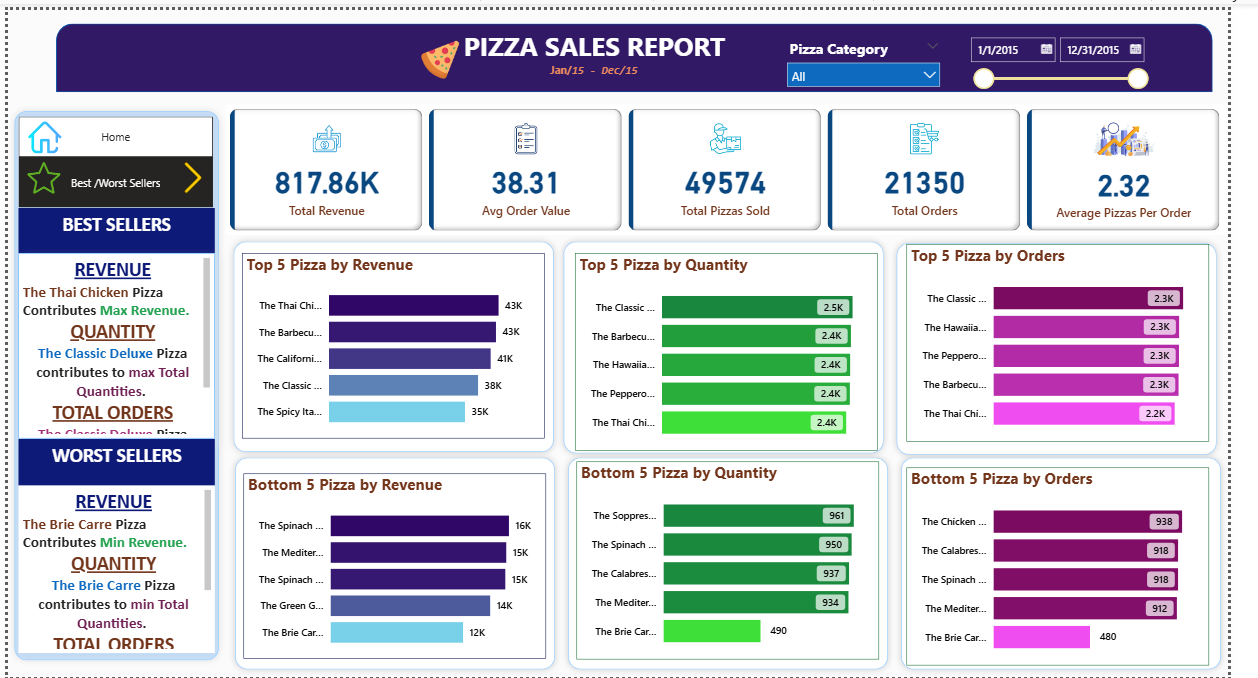

This screenshot's page, from the dashboard's own definition file:
{"tool":"powerbi","page":{"name":"Best /Worst Sellers","canvas":[1500,820],"ordinal":1},"visuals":[{"type":"cardVisual","fields":{"Data":["pizza_sales.Total Revenue","pizza_sales.Avg Order Value","pizza_sales.Total Pizzas Sold","pizza_sales.Total Orders","pizza_sales.Average Pizzas Per Order"]},"box":[267.4,116.2,1231.9,160.4],"z":0},{"type":"shape","box":[59,16.6,1421.8,84.8],"z":1000},{"type":"textbox","box":[531.1,16.6,379.9,75.6],"z":2000},{"type":"textbox","box":[619.6,59,201,33.2],"z":3000},{"type":"image","box":[501.6,29.5,59,62.7],"z":4000},{"type":"shape","box":[269.2,276.6,410,275],"z":5000},{"type":"shape","box":[0,116.2,267.4,691.5],"z":6000},{"type":"textbox","box":[13.3,243.6,241.4,55.4],"z":7000},{"type":"textbox","box":[13.3,299,241.4,228.1],"z":8000},{"type":"textbox","box":[13.3,527.1,241.4,57.6],"z":9000},{"type":"textbox","box":[13.3,584.7,241.4,206],"z":10000},{"type":"slicer","fields":{"Values":["pizza_sales.pizza_category"]},"box":[947.8,28.8,208.2,70.9],"z":11000},{"type":"slicer","fields":{"Values":["pizza_sales.order_date"]},"box":[1171.5,24.4,239.2,75.3],"z":12000},{"type":"shape","box":[675.4,276.8,410,276.8],"z":13000},{"type":"shape","box":[1085.1,279,410,276.8],"z":14000},{"type":"shape","box":[270.2,542.6,409.7,276.8],"z":15000},{"type":"shape","box":[679.9,542.6,409.7,276.8],"z":16000},{"type":"shape","box":[1089.6,542.6,409.7,276.8],"z":17000},{"type":"barChart","title":"Top 5 Pizza by Revenue","fields":{"Category":["pizza_sales.pizza_name"],"Y":["pizza_sales.Total Revenue"]},"box":[287.9,299,372.1,228.1],"z":18000},{"type":"barChart","title":"Top 5 Pizza by Quantity","fields":{"Category":["pizza_sales.pizza_name"],"Y":["pizza_sales.Total Pizzas Sold"]},"box":[697.6,299,372.1,243.6],"z":19000},{"type":"barChart","title":"Bottom 5 Pizza by Revenue","fields":{"Category":["pizza_sales.pizza_name"],"Y":["pizza_sales.Total Revenue"]},"box":[290.1,569.1,372.1,228.1],"z":20000},{"type":"barChart","title":"Bottom 5 Pizza by Quantity","fields":{"Category":["pizza_sales.pizza_name"],"Y":["pizza_sales.Total Pizzas Sold"]},"box":[699.8,555.9,372.1,243.6],"z":21000},{"type":"barChart","title":"Top 5 Pizza by Orders","fields":{"Category":["pizza_sales.pizza_name"],"Y":["pizza_sales.Total Orders"]},"box":[1105.1,287.9,372.1,243.6],"z":22000},{"type":"barChart","title":"Bottom 5 Pizza by Orders","fields":{"Category":["pizza_sales.pizza_name"],"Y":["pizza_sales.Total Orders"]},"box":[1105.1,562.5,372.1,243.6],"z":23000},{"type":"pageNavigator","box":[13.3,130.7,239.2,50.9],"z":24000},{"type":"pageNavigator","box":[13.3,181.6,239.2,62],"z":25000},{"type":"image","box":[203.7,181.6,48.7,50.9],"z":26000},{"type":"image","box":[13.3,130.7,64.2,50.9],"z":27000},{"type":"image","box":[11.1,181.6,66.4,50.9],"z":27001}]}

Visuals, with their boxes in screenshot pixels (x1, y1, x2, y2), scaled from the page's 1500x820 canvas onto the 1258x678 screenshot:
cardVisual - pizza_sales.Total Revenue x pizza_sales.Avg Order Value: x1=224 y1=96 x2=1257 y2=229
shape: x1=49 y1=14 x2=1242 y2=84
textbox: x1=445 y1=14 x2=764 y2=76
textbox: x1=520 y1=49 x2=688 y2=76
image: x1=421 y1=24 x2=470 y2=76
shape: x1=226 y1=229 x2=570 y2=456
shape: x1=0 y1=96 x2=224 y2=668
textbox: x1=11 y1=201 x2=214 y2=247
textbox: x1=11 y1=247 x2=214 y2=436
textbox: x1=11 y1=436 x2=214 y2=483
textbox: x1=11 y1=483 x2=214 y2=654
slicer - pizza_sales.pizza_category: x1=795 y1=24 x2=969 y2=82
slicer - pizza_sales.order_date: x1=982 y1=20 x2=1183 y2=82
shape: x1=566 y1=229 x2=910 y2=458
shape: x1=910 y1=231 x2=1254 y2=460
shape: x1=227 y1=449 x2=570 y2=677
shape: x1=570 y1=449 x2=914 y2=677
shape: x1=914 y1=449 x2=1257 y2=677
"Top 5 Pizza by Revenue" barChart: x1=241 y1=247 x2=554 y2=436
"Top 5 Pizza by Quantity" barChart: x1=585 y1=247 x2=897 y2=449
"Bottom 5 Pizza by Revenue" barChart: x1=243 y1=471 x2=555 y2=659
"Bottom 5 Pizza by Quantity" barChart: x1=587 y1=460 x2=899 y2=661
"Top 5 Pizza by Orders" barChart: x1=927 y1=238 x2=1239 y2=439
"Bottom 5 Pizza by Orders" barChart: x1=927 y1=465 x2=1239 y2=667
pageNavigator: x1=11 y1=108 x2=212 y2=150
pageNavigator: x1=11 y1=150 x2=212 y2=201
image: x1=171 y1=150 x2=212 y2=192
image: x1=11 y1=108 x2=65 y2=150
image: x1=9 y1=150 x2=65 y2=192
